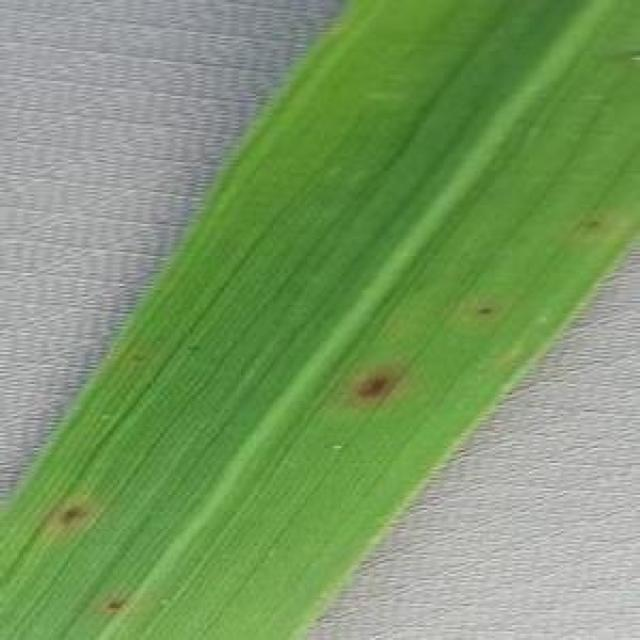Brown_Spot: (341, 364, 404, 421), (44, 505, 96, 527), (100, 590, 126, 618), (470, 300, 500, 322)
